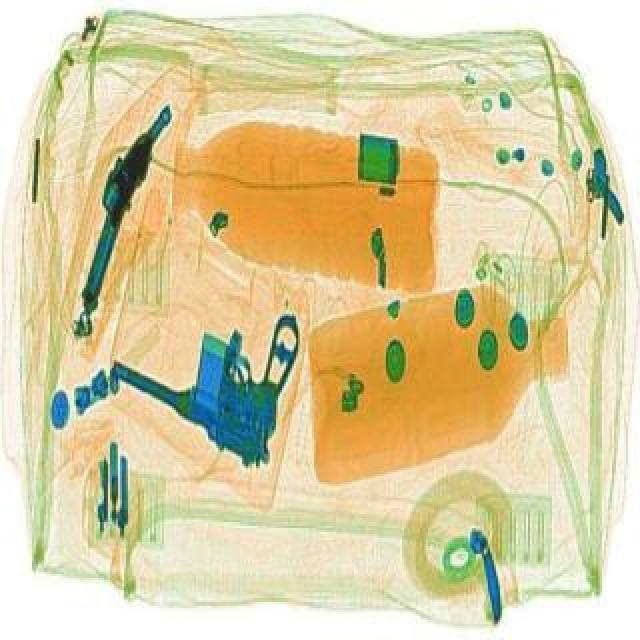gun: (100, 260, 356, 482), (54, 104, 178, 346)
